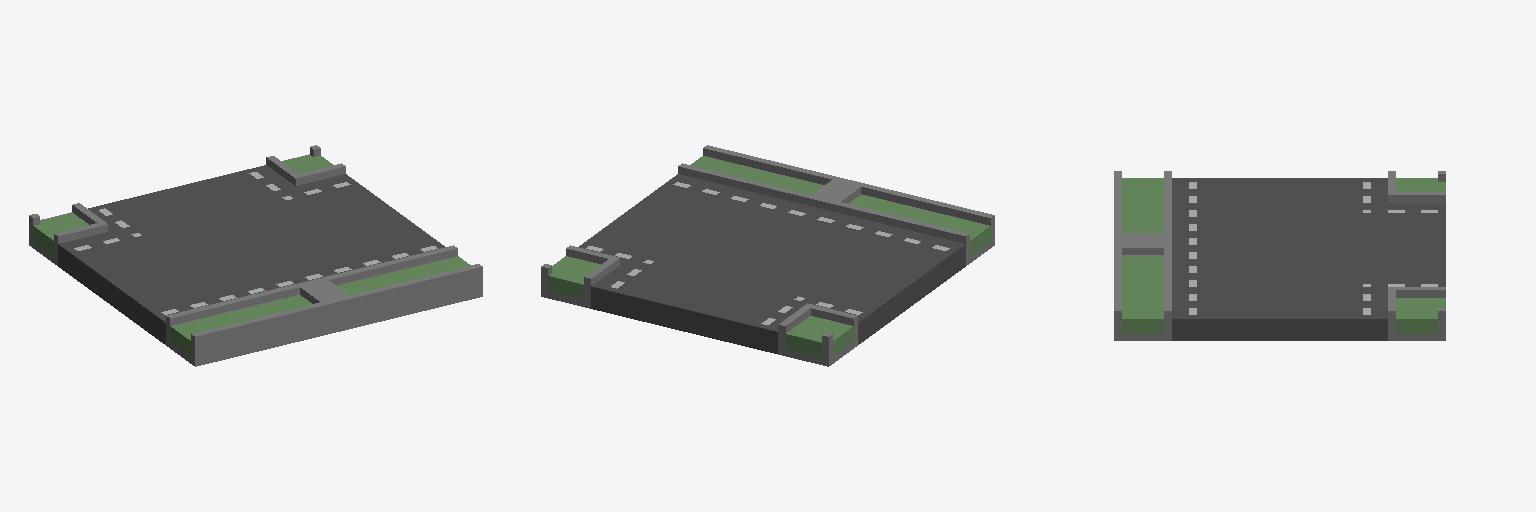
3 views of the same model, side by side, from view 1: azimuth 30°, elevation 25°; view 2: azimuth 150°, elevation 25°; view 3: azimuth 270°, elevation 25° (orthographic).
Parts seen in each view (by area): view 1: object 1; view 2: object 1; view 3: object 1.
Boxes of the visible parts, x1=… form: object 1: x1=29, y1=145, x2=482, y2=366; object 1: x1=541, y1=145, x2=994, y2=366; object 1: x1=1114, y1=171, x2=1445, y2=340.
Bounding box in the file's own units: 4 × 0.4 × 4.
Materials: 1 (1 with a texture image).